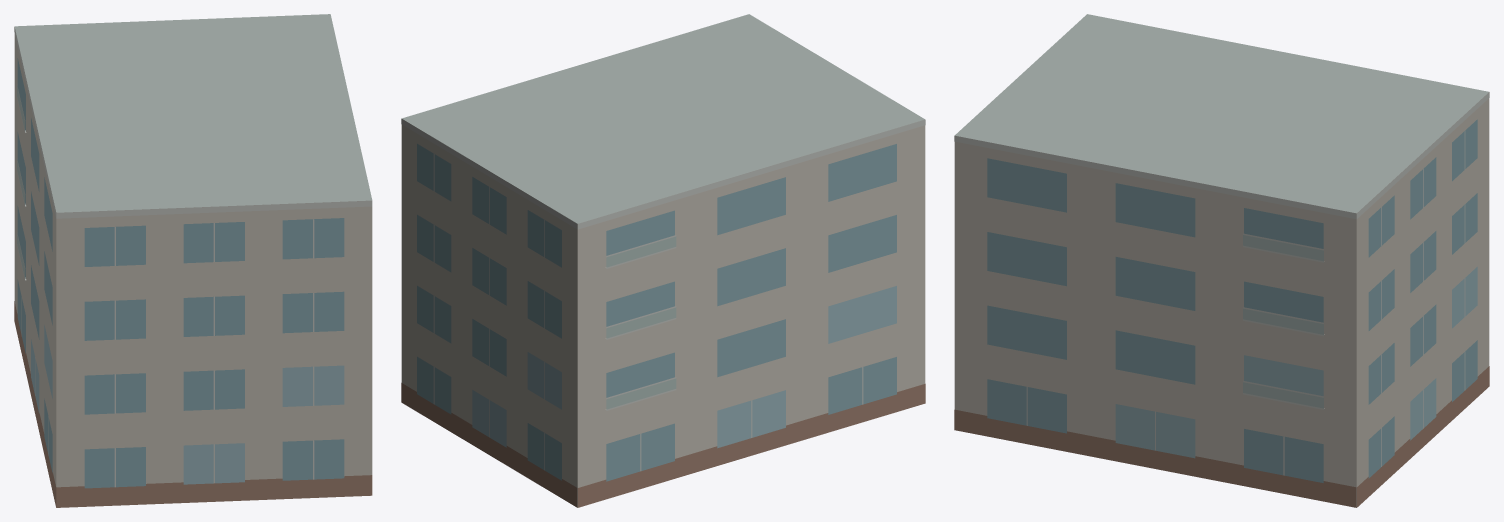
Rendered from survey-upis-32805062.glb.
3 renders of one model, left to right at view 1: azimuth 30°, elevation 25°; view 2: azimuth 150°, elevation 25°; view 3: azimuth 270°, elevation 25°, orthographic. The views are drawn at different scales.
Visible parts, largest first — view 1: survey-upis-32805062.tmp; view 2: survey-upis-32805062.tmp; view 3: survey-upis-32805062.tmp.
Boxes of the visible parts, box(x1,y1,x2,y2) form: survey-upis-32805062.tmp: box(14, 14, 372, 507); survey-upis-32805062.tmp: box(401, 14, 925, 507); survey-upis-32805062.tmp: box(954, 14, 1489, 507).
Bounding box in the file's own units: 17.57 × 12.1 × 19.93.
